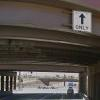Bridge: (3, 5, 90, 80)
